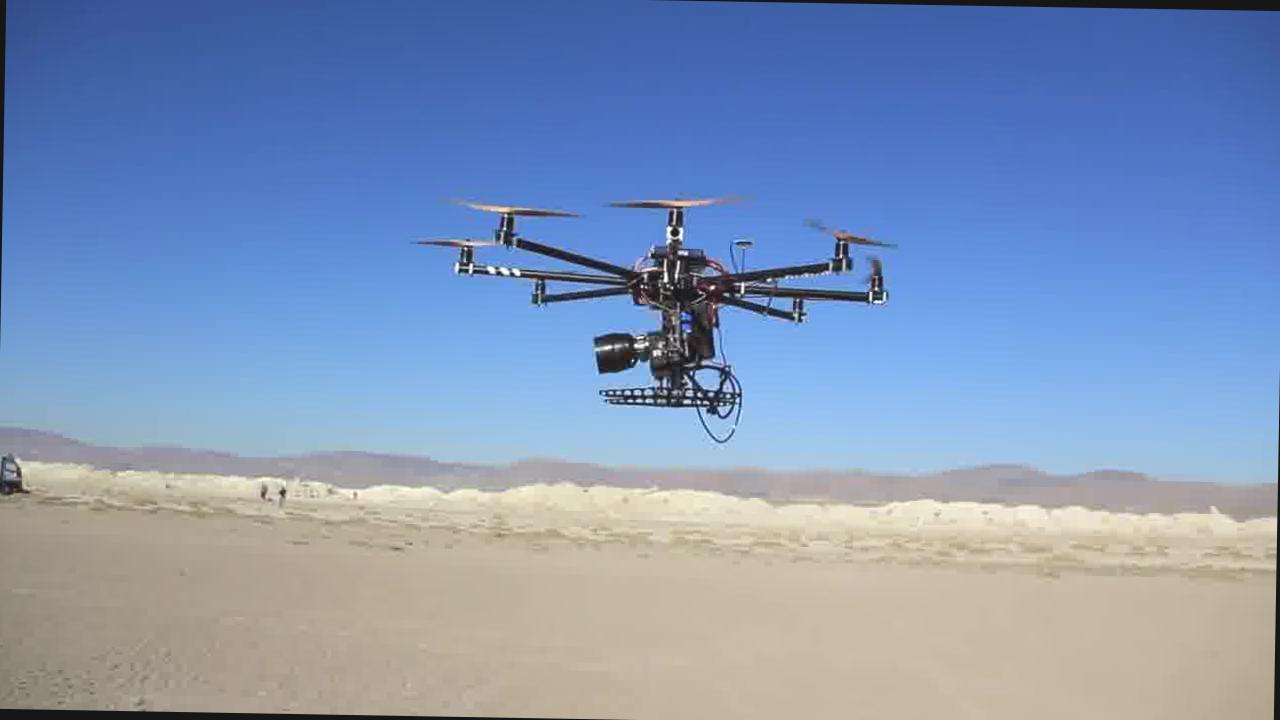drone: (407, 193, 904, 409)
